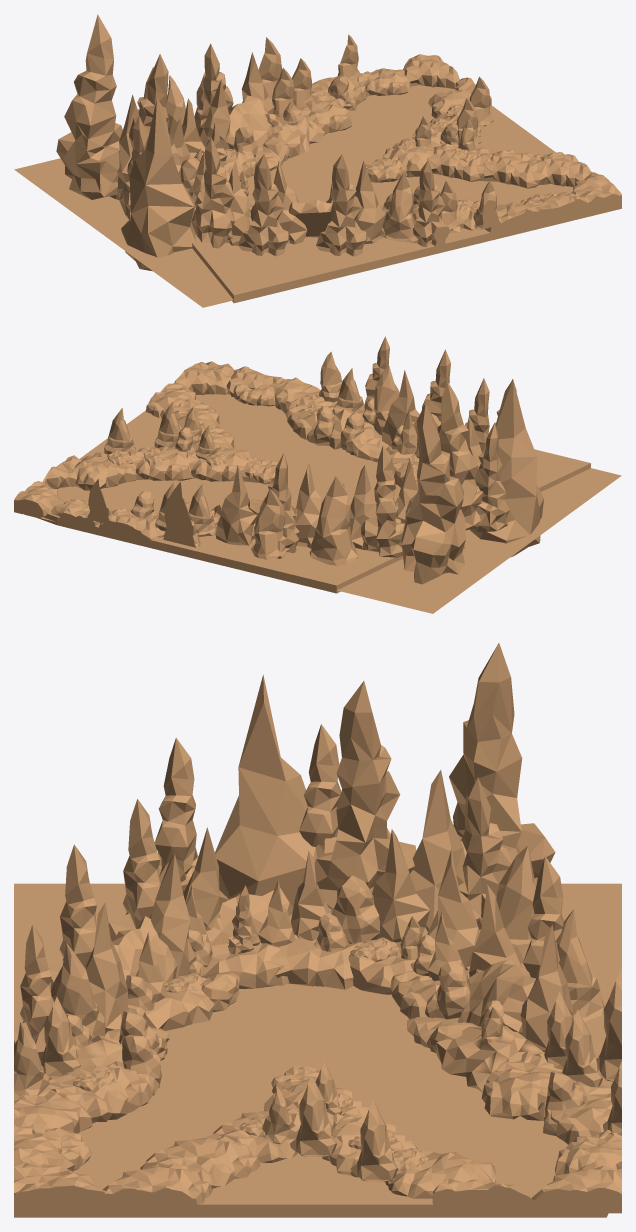
File: карта2 .fbx
The picture shows the model from 3 angles, top to bottom: view 1: azimuth 30°, elevation 25°; view 2: azimuth 150°, elevation 25°; view 3: azimuth 270°, elevation 25°; orthographic projection. The views are drawn at different scales.
Parts seen in each view (by area): view 1: Plane, BézierCurve, Cube.060, высокий камень.013, Cube.058, Cube.077, Cube.076, низкий камень.052, Cube.078, Cube.057, Cube.062, низкий камень.051 (+41 smaller); view 2: Plane, BézierCurve, Cube.060, высокий камень.013, Cube.057, Cube.059, Cube.073, Cube.074, высокий камень.007, Cube.072, низкий камень.047, низкий камень.048 (+38 smaller); view 3: Plane, BézierCurve, высокий камень.013, Cube.057, Cube.060, низкий камень.053, Cube.058, Cube.059, низкий камень.056, высокий камень.040, низкий камень.006, низкий камень.046 (+62 smaller).
Part boxes in pixels (x1=…): Plane: x1=14, y1=85, x2=573, y2=307; BézierCurve: x1=192, y1=83, x2=621, y2=303; Cube.060: x1=56, y1=14, x2=122, y2=199; высокий камень.013: x1=121, y1=98, x2=195, y2=271; Cube.058: x1=191, y1=137, x2=235, y2=248; Cube.077: x1=238, y1=154, x2=289, y2=256; Cube.076: x1=316, y1=154, x2=367, y2=256; низкий камень.052: x1=482, y1=150, x2=550, y2=188; Cube.078: x1=410, y1=160, x2=449, y2=246; Cube.057: x1=127, y1=54, x2=181, y2=179; Cube.062: x1=382, y1=174, x2=417, y2=242; низкий камень.051: x1=427, y1=143, x2=492, y2=181; Plane: x1=40, y1=393, x2=621, y2=613; BézierCurve: x1=37, y1=402, x2=590, y2=593; Cube.060: x1=401, y1=403, x2=466, y2=584; высокий камень.013: x1=469, y1=379, x2=543, y2=557; Cube.057: x1=439, y1=381, x2=483, y2=530; Cube.059: x1=361, y1=446, x2=404, y2=557; Cube.073: x1=309, y1=476, x2=357, y2=565; Cube.074: x1=473, y1=423, x2=509, y2=531; высокий камень.007: x1=215, y1=465, x2=257, y2=545; Cube.072: x1=251, y1=488, x2=289, y2=559; низкий камень.047: x1=72, y1=452, x2=136, y2=490; низкий камень.048: x1=128, y1=446, x2=192, y2=480; Plane: x1=14, y1=883, x2=621, y2=1198; BézierCurve: x1=14, y1=900, x2=621, y2=1217; высокий камень.013: x1=215, y1=675, x2=332, y2=912; Cube.057: x1=314, y1=681, x2=416, y2=909; Cube.060: x1=449, y1=643, x2=555, y2=882; низкий камень.053: x1=102, y1=1164, x2=212, y2=1213; Cube.058: x1=154, y1=737, x2=198, y2=892; Cube.059: x1=458, y1=777, x2=511, y2=931; низкий камень.056: x1=14, y1=1162, x2=108, y2=1213; высокий камень.040: x1=410, y1=770, x2=465, y2=931; низкий камень.006: x1=481, y1=1051, x2=562, y2=1120; низкий камень.046: x1=531, y1=1163, x2=621, y2=1213.
Size of the model in its own units: 16857 by 7265 by 13172.
